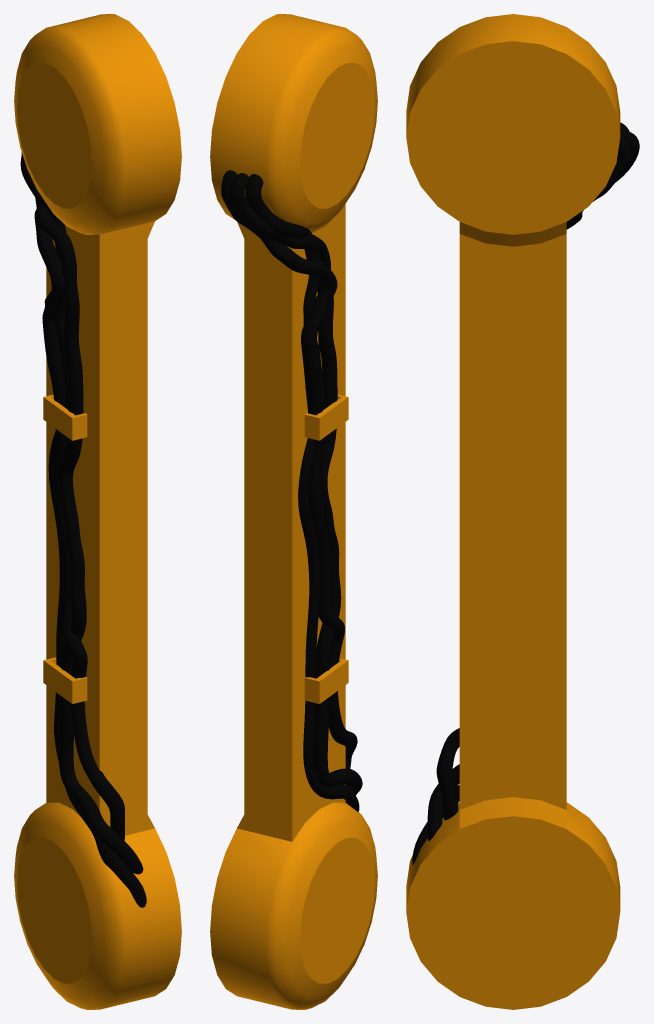
The model's file is ArmBigv1.4.fbx.
The picture shows the model from 3 angles, left to right: view 1: azimuth 30°, elevation 25°; view 2: azimuth 150°, elevation 25°; view 3: azimuth 270°, elevation 25°; orthographic projection.
Parts seen in each view (by area): view 1: 03_ArmBone8, pCylinder27; view 2: 03_ArmBone8, pCylinder27; view 3: 03_ArmBone8, pCylinder27.
Boxes of the visible parts, bbox=[...] form: 03_ArmBone8: bbox=[14, 14, 181, 1009]; pCylinder27: bbox=[20, 152, 146, 907]; 03_ArmBone8: bbox=[210, 14, 377, 1009]; pCylinder27: bbox=[221, 170, 362, 811]; 03_ArmBone8: bbox=[406, 14, 620, 1009]; pCylinder27: bbox=[412, 122, 639, 864].
Size of the model in its own units: 10.08 by 125 by 27.28.
